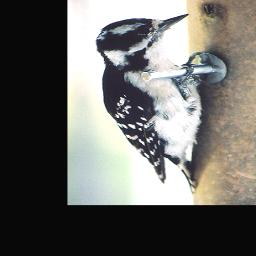Woodpecker: (95, 14, 210, 195)
